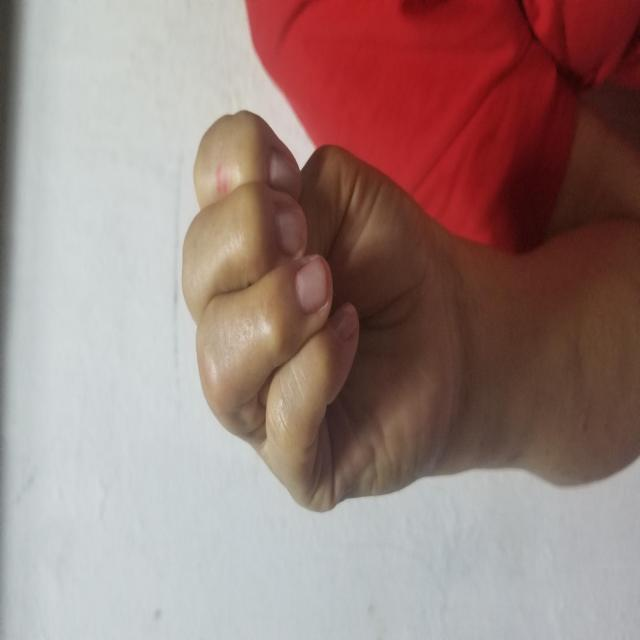M: (109, 72, 486, 556)
